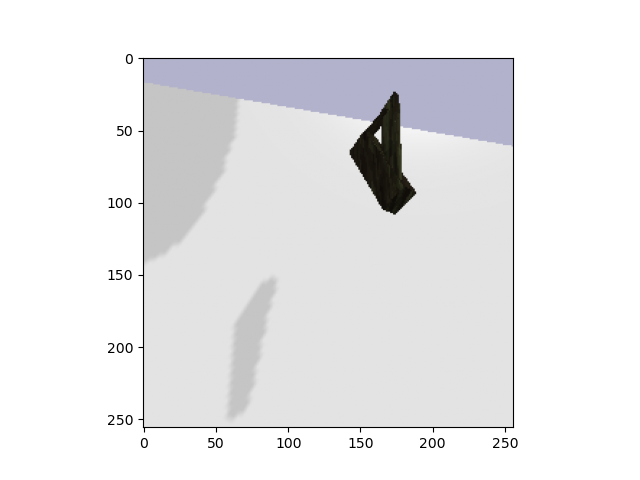v249b387_109: (345, 89, 426, 221)
